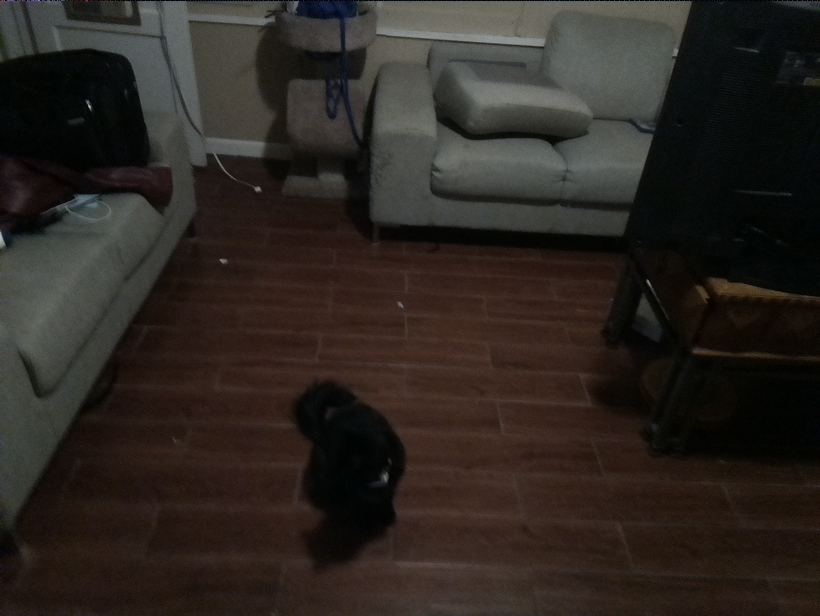cat: (264, 366, 411, 572)
